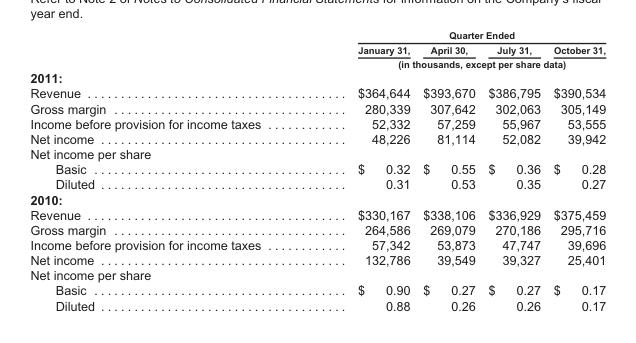table: (29, 29, 605, 312)
table column: (29, 29, 308, 312), (308, 29, 415, 312), (415, 29, 481, 312), (481, 29, 546, 312), (546, 29, 605, 312)
table column header: (29, 29, 605, 69)
table projected row header: (29, 69, 605, 85), (29, 145, 605, 161), (29, 191, 605, 206), (29, 267, 605, 282)
table row: (29, 69, 605, 85), (29, 145, 605, 161), (29, 236, 605, 252), (29, 41, 605, 56), (29, 85, 605, 100), (29, 100, 605, 115), (29, 115, 605, 130), (29, 130, 605, 145), (29, 161, 605, 176), (29, 176, 605, 191), (29, 191, 605, 206), (29, 206, 605, 221), (29, 221, 605, 236), (29, 252, 605, 267), (29, 267, 605, 282), (29, 282, 605, 297), (29, 297, 605, 312), (29, 56, 605, 69), (29, 29, 605, 41)
table spanning cell: (308, 56, 605, 69), (308, 29, 605, 41)
